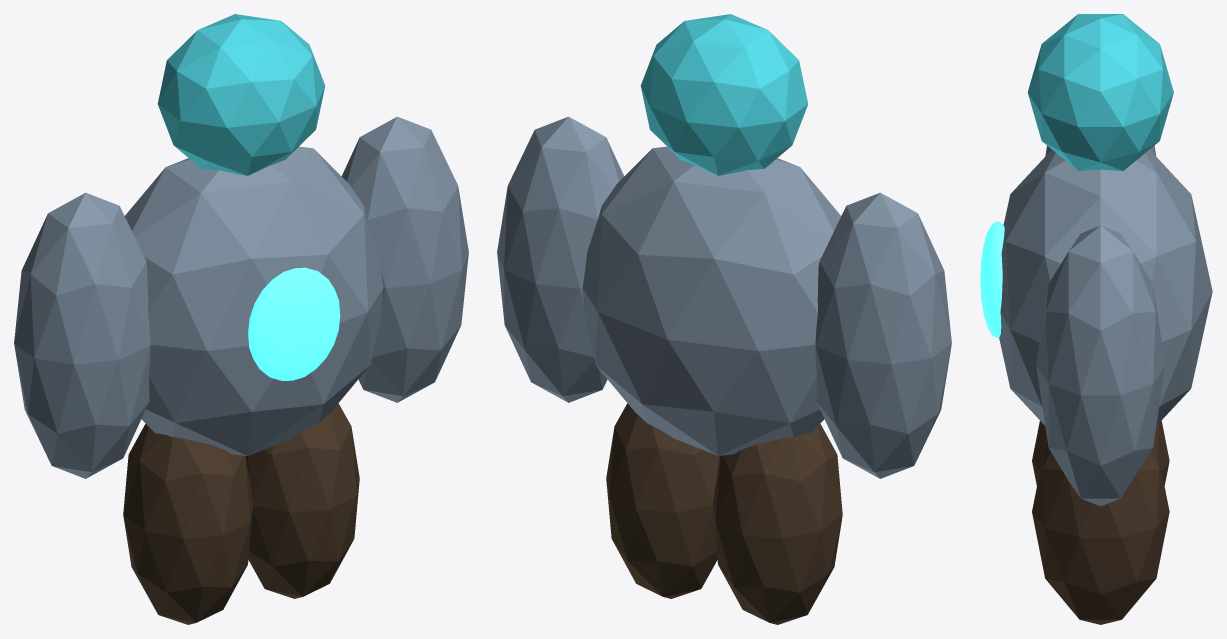
The model's file is elemental_v4.glb.
3 views of the same model, side by side, from view 1: azimuth 30°, elevation 25°; view 2: azimuth 150°, elevation 25°; view 3: azimuth 270°, elevation 25° (orthographic).
Visible parts, largest first — view 1: ROCK_TORSO_PRIMARY, ROCK_ARM_PRIMARY, ROCK_ARM_PRIMARY.001, ROCK_HEAD_ACCENT, ROCK_LEG_SECONDARY, ROCK_LEG_SECONDARY.001, MAGMA_CORE_EMISSIVE; view 2: ROCK_TORSO_PRIMARY, ROCK_ARM_PRIMARY, ROCK_ARM_PRIMARY.001, ROCK_HEAD_ACCENT, ROCK_LEG_SECONDARY, ROCK_LEG_SECONDARY.001; view 3: ROCK_TORSO_PRIMARY, ROCK_ARM_PRIMARY.001, ROCK_HEAD_ACCENT, ROCK_LEG_SECONDARY.001, MAGMA_CORE_EMISSIVE, ROCK_LEG_SECONDARY.
Part boxes in pixels (left/top/right/bottom): ROCK_TORSO_PRIMARY: left=124, top=146, right=383, bottom=455; ROCK_ARM_PRIMARY: left=14, top=192, right=150, bottom=478; ROCK_ARM_PRIMARY.001: left=341, top=116, right=468, bottom=402; ROCK_HEAD_ACCENT: left=157, top=14, right=325, bottom=175; ROCK_LEG_SECONDARY: left=123, top=423, right=253, bottom=624; ROCK_LEG_SECONDARY.001: left=245, top=403, right=359, bottom=598; MAGMA_CORE_EMISSIVE: left=248, top=267, right=340, bottom=380; ROCK_TORSO_PRIMARY: left=582, top=146, right=841, bottom=455; ROCK_ARM_PRIMARY: left=815, top=192, right=951, bottom=478; ROCK_ARM_PRIMARY.001: left=497, top=116, right=624, bottom=402; ROCK_HEAD_ACCENT: left=640, top=14, right=808, bottom=175; ROCK_LEG_SECONDARY: left=712, top=423, right=842, bottom=624; ROCK_LEG_SECONDARY.001: left=606, top=403, right=720, bottom=598; ROCK_TORSO_PRIMARY: left=999, top=149, right=1212, bottom=425; ROCK_ARM_PRIMARY.001: left=1036, top=225, right=1165, bottom=506; ROCK_HEAD_ACCENT: left=1027, top=14, right=1173, bottom=170; ROCK_LEG_SECONDARY.001: left=1032, top=442, right=1169, bottom=624; MAGMA_CORE_EMISSIVE: left=980, top=221, right=1004, bottom=337; ROCK_LEG_SECONDARY: left=1032, top=421, right=1169, bottom=485.
Size of the model in its own units: 2.29 by 2.98 by 1.08.
